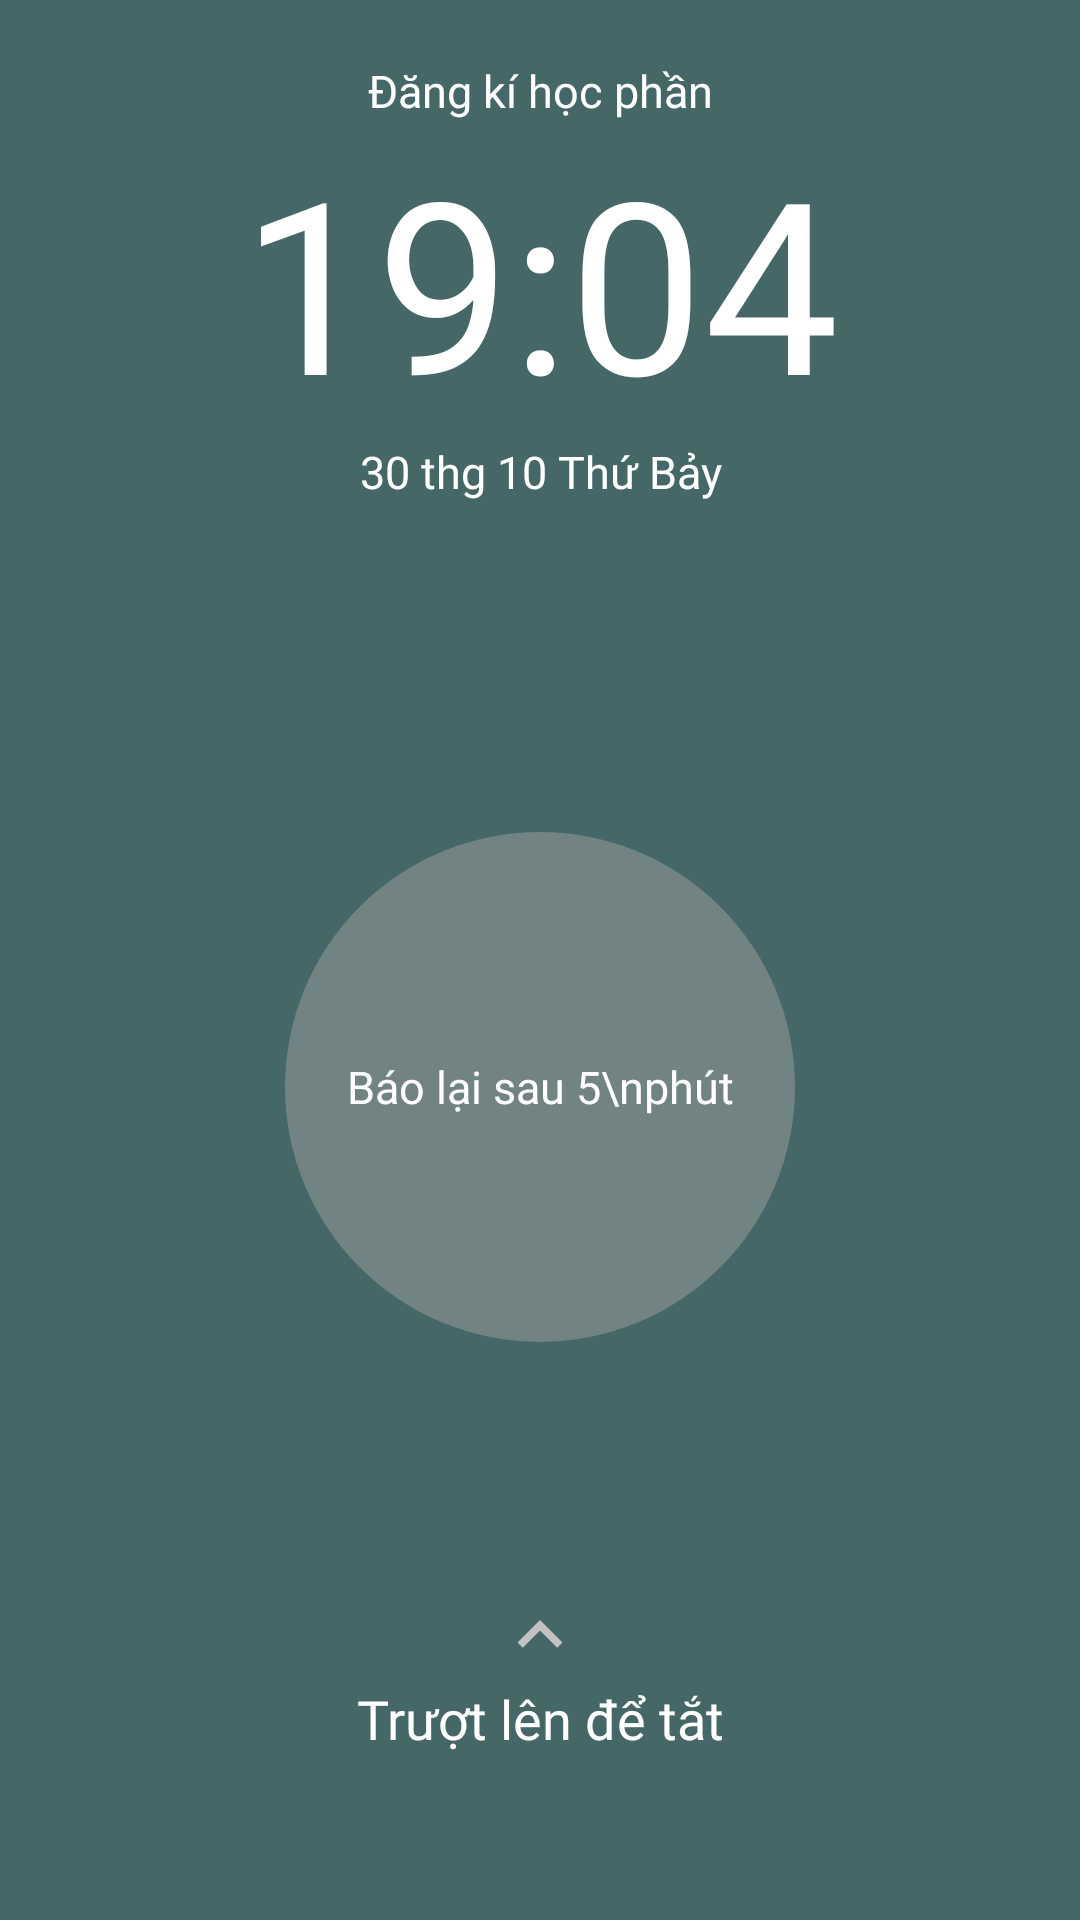

Where icons sit on this 1080 x 1920 app screen, as {"left": x1, "top": y1, "right": x2, "bottom": y2}:
expand less: {"left": 517, "top": 1620, "right": 563, "bottom": 1648}
